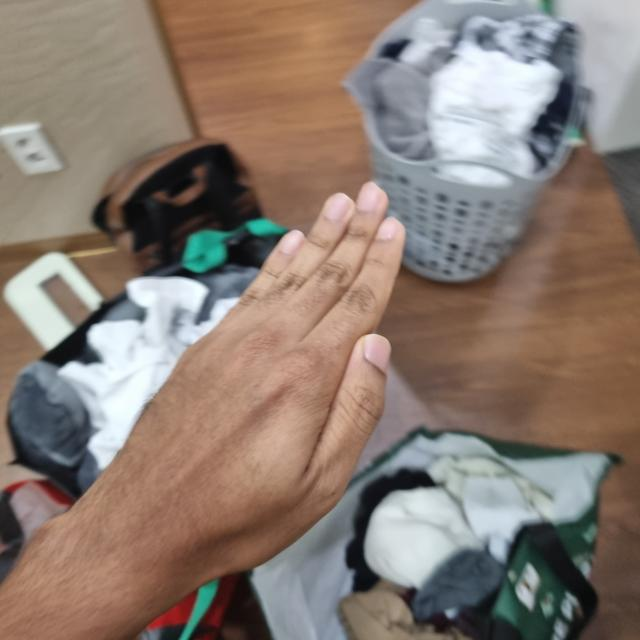Paper: (102, 161, 640, 583)
